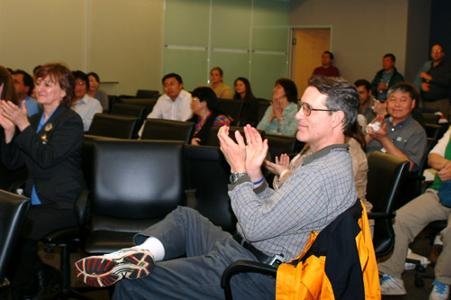person: (71, 77, 362, 300)
